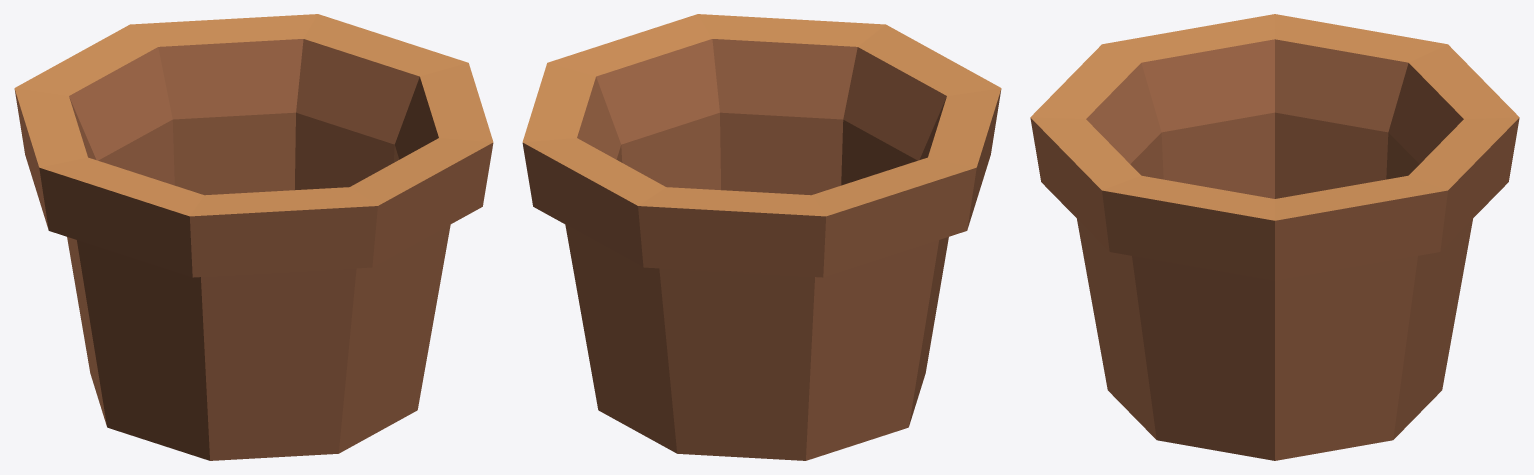
The model's file is SM_Prop_Pot_02.fbx.
3 views of the same model, side by side, from view 1: azimuth 30°, elevation 25°; view 2: azimuth 150°, elevation 25°; view 3: azimuth 270°, elevation 25° (orthographic).
Parts seen in each view (by area): view 1: SM_Prop_Pot_02; view 2: SM_Prop_Pot_02; view 3: SM_Prop_Pot_02.
Boxes of the visible parts, bbox=[...] form: SM_Prop_Pot_02: bbox=[14, 14, 493, 460]; SM_Prop_Pot_02: bbox=[522, 14, 1001, 460]; SM_Prop_Pot_02: bbox=[1030, 14, 1519, 460].
Size of the model in its own units: 26.39 by 16.24 by 26.39.
